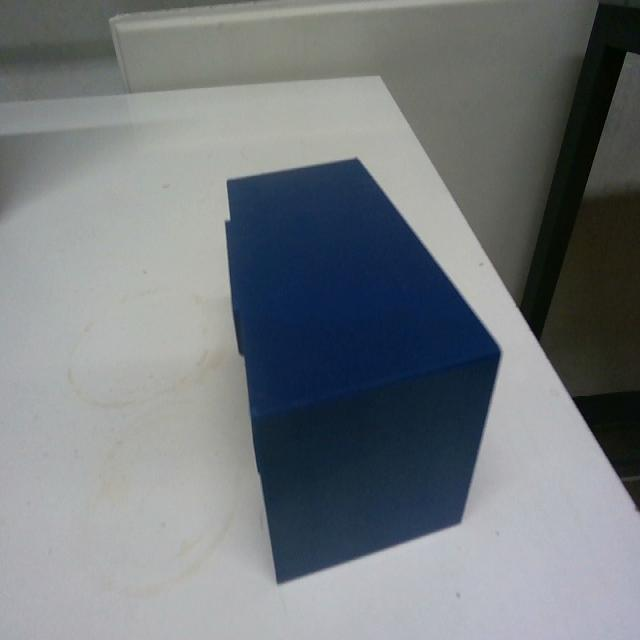Blue Cuboid: (221, 152, 503, 584)
